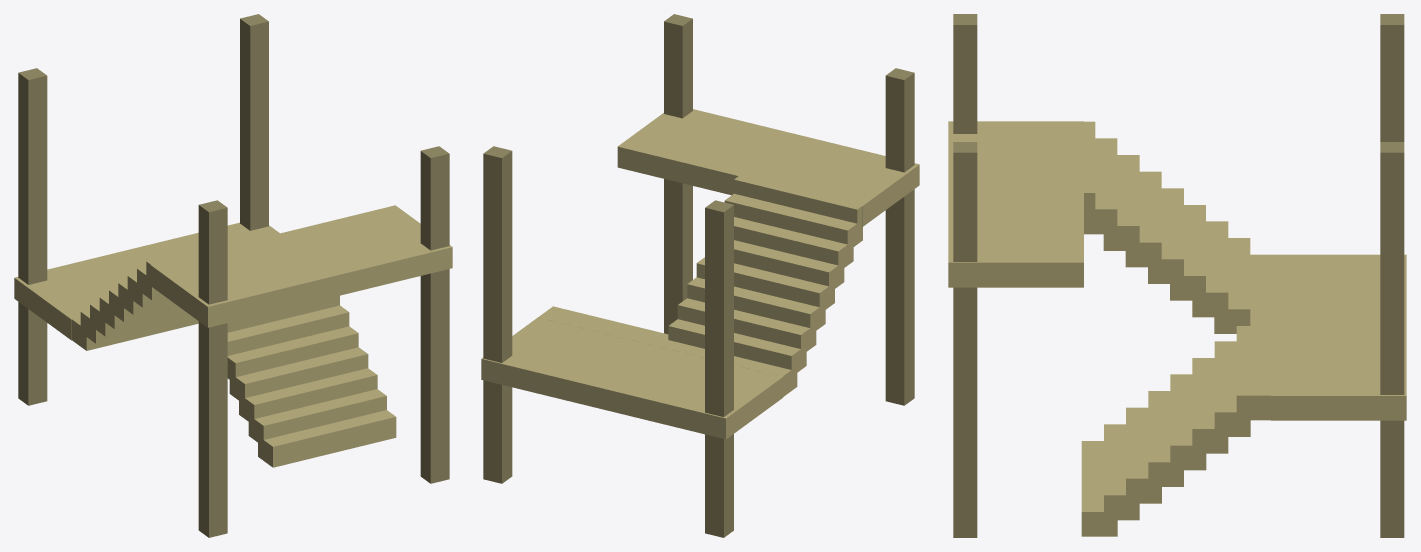
Rendered from ruin.fbx.
The picture shows the model from 3 angles, left to right: view 1: azimuth 30°, elevation 25°; view 2: azimuth 150°, elevation 25°; view 3: azimuth 270°, elevation 25°; orthographic projection. The views are drawn at different scales.
Visible parts, largest first — view 1: Cube_7; view 2: Cube_7; view 3: Cube_7.
Part boxes in pixels (x1,y1,x2,y2): Cube_7: (14, 14, 452, 537); Cube_7: (481, 14, 919, 537); Cube_7: (948, 14, 1406, 537).
Bounding box in the file's own units: 355 × 451 × 486.
